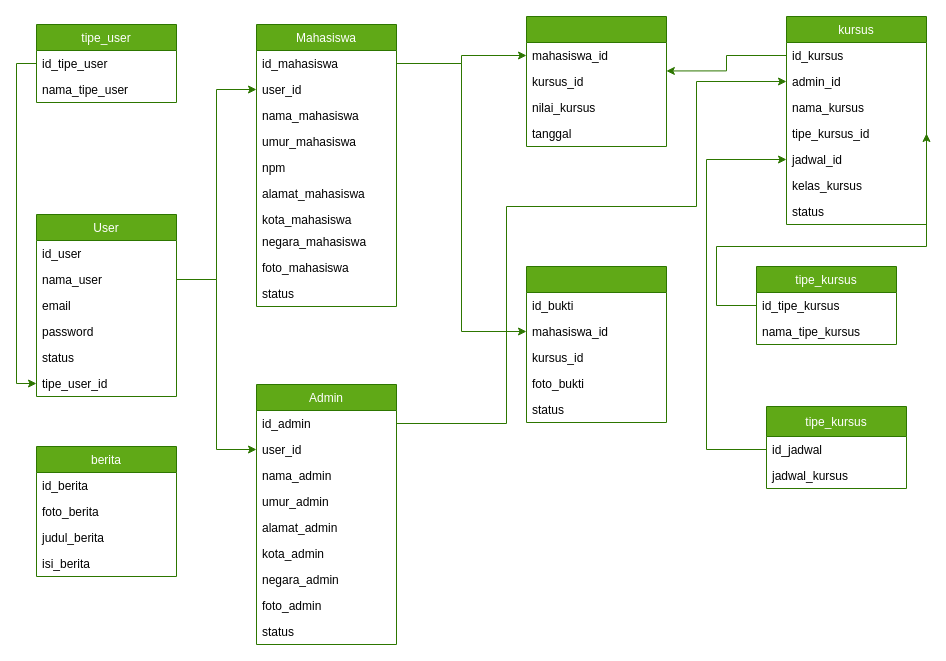
This 946x661 diagram has some shape labels left out. Here are the shapes that lost their labels. From the top down, the box of each, then its label:
(526, 16, 666, 146): detail_kursus
(526, 266, 666, 422): buktipembayaran
